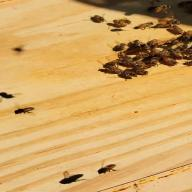Bee: (98, 61, 140, 83), (90, 155, 126, 180), (55, 170, 88, 186), (108, 15, 133, 34), (146, 4, 184, 16), (82, 14, 110, 28), (10, 105, 40, 115)
